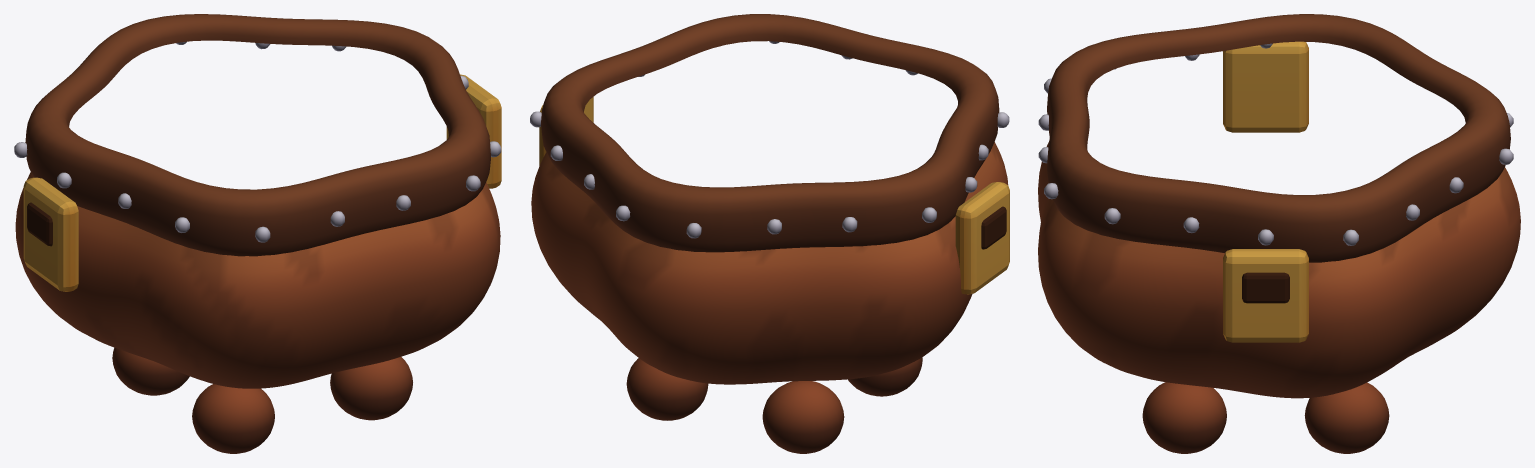
Rendered from cauldron.glb.
The picture shows the model from 3 angles, left to right: view 1: azimuth 30°, elevation 25°; view 2: azimuth 150°, elevation 25°; view 3: azimuth 270°, elevation 25°; orthographic projection. The views are drawn at different scales.
Visible parts, largest first — view 1: cauldron; view 2: cauldron; view 3: cauldron.
Part boxes in pixels (box(x1,y1,x2,y2)): cauldron: box(14, 14, 501, 453); cauldron: box(530, 14, 1009, 453); cauldron: box(1038, 14, 1520, 453).
Bounding box in the file's own units: 2.22 × 1.42 × 2.02.
